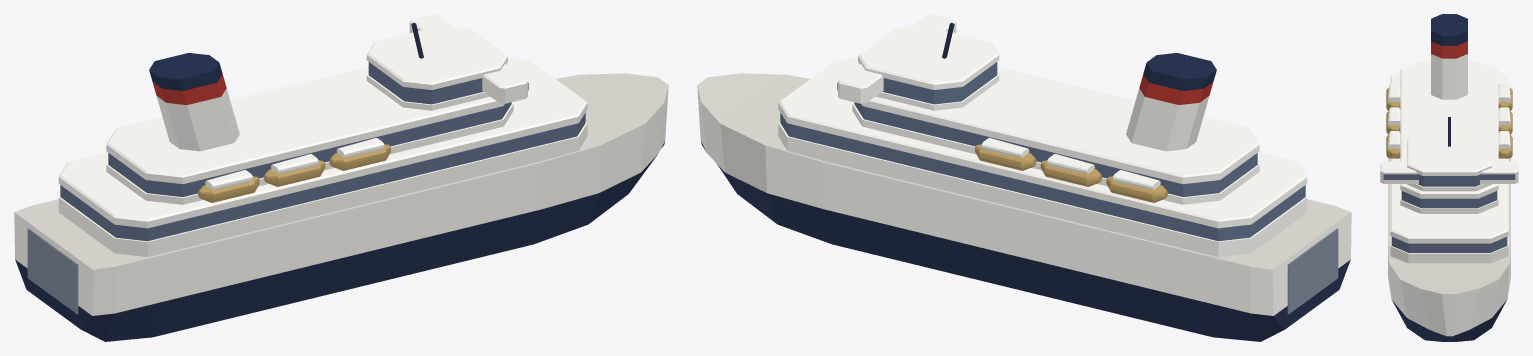
Rendered from ferry.glb.
The picture shows the model from 3 angles, left to right: view 1: azimuth 30°, elevation 25°; view 2: azimuth 150°, elevation 25°; view 3: azimuth 270°, elevation 25°; orthographic projection. The views are drawn at different scales.
Parts seen in each view (by area): view 1: model; view 2: model; view 3: model.
Boxes of the visible parts, x1=… form: model: x1=14, y1=14, x2=668, y2=341; model: x1=697, y1=14, x2=1351, y2=341; model: x1=1380, y1=14, x2=1518, y2=341.
Size of the model in its own units: 46.5 by 16.8 by 12.4.
